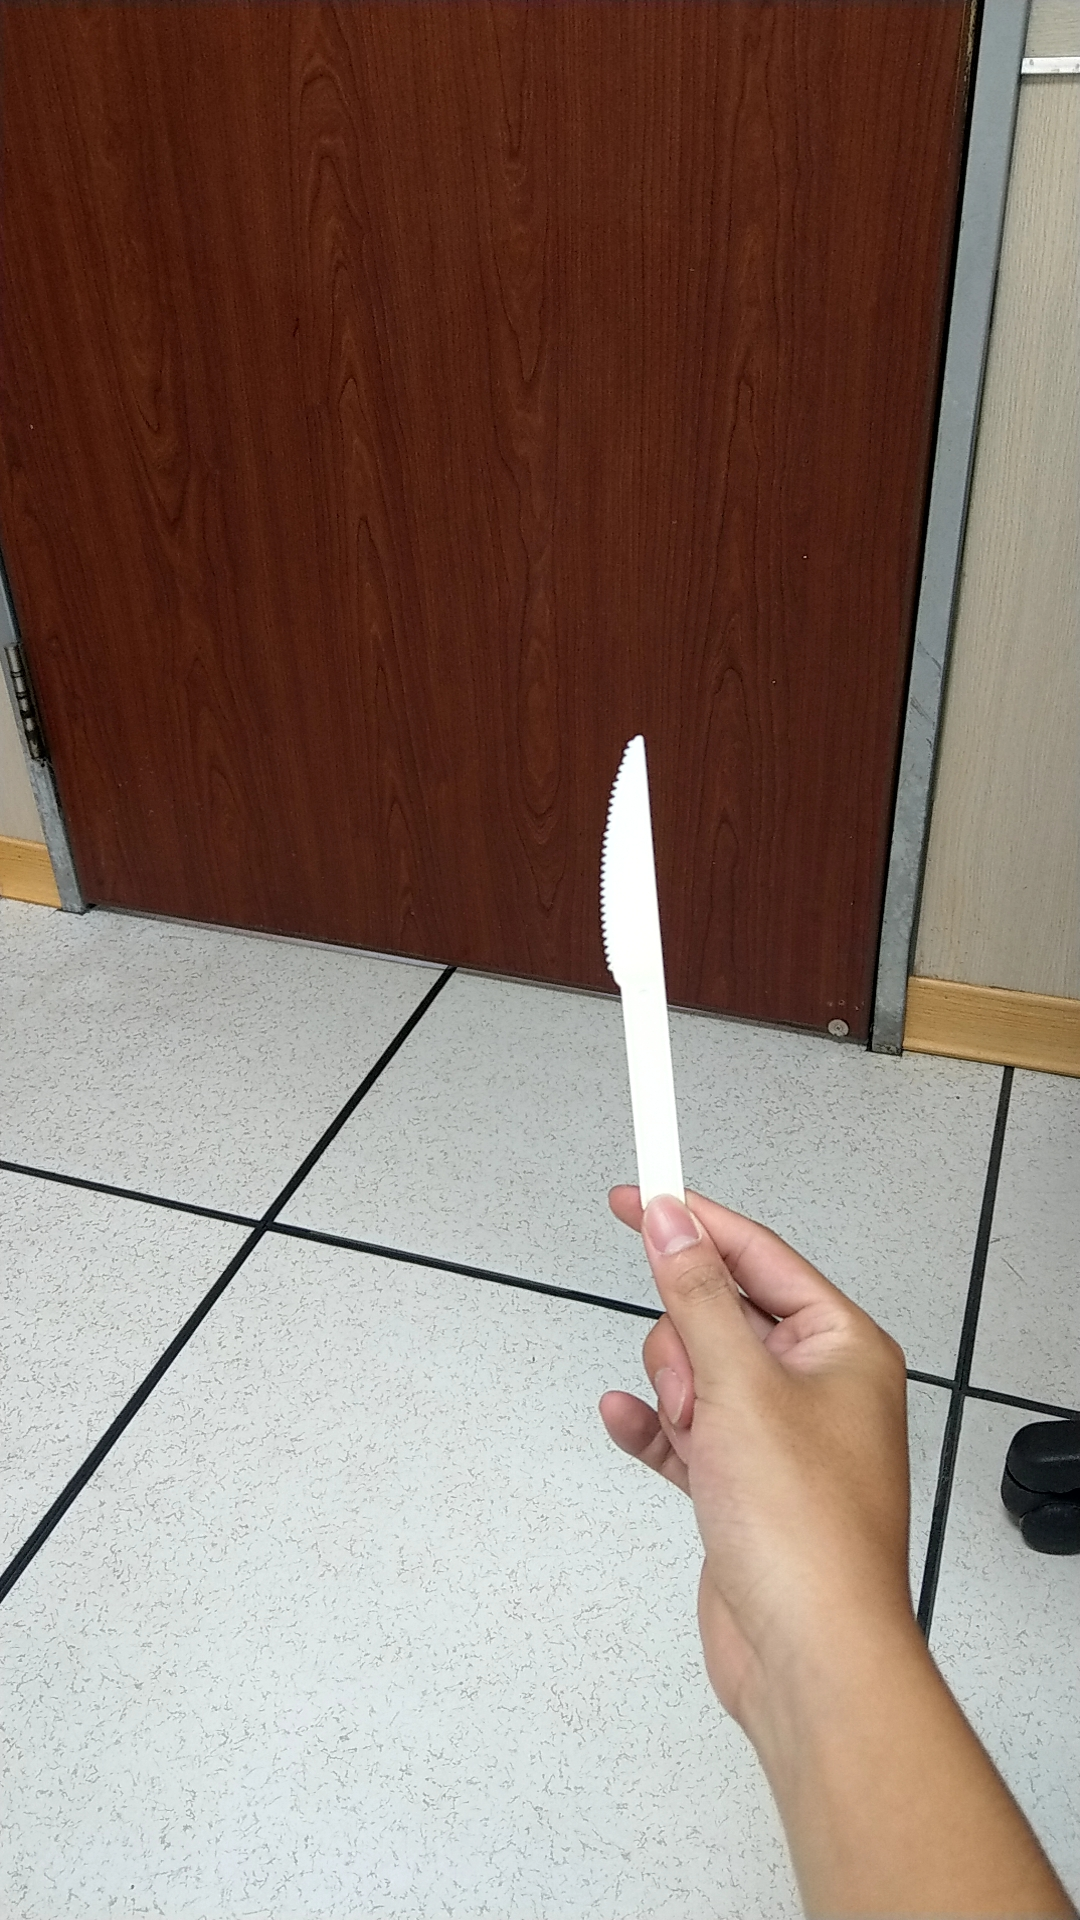knife: (578, 725, 735, 1197)
